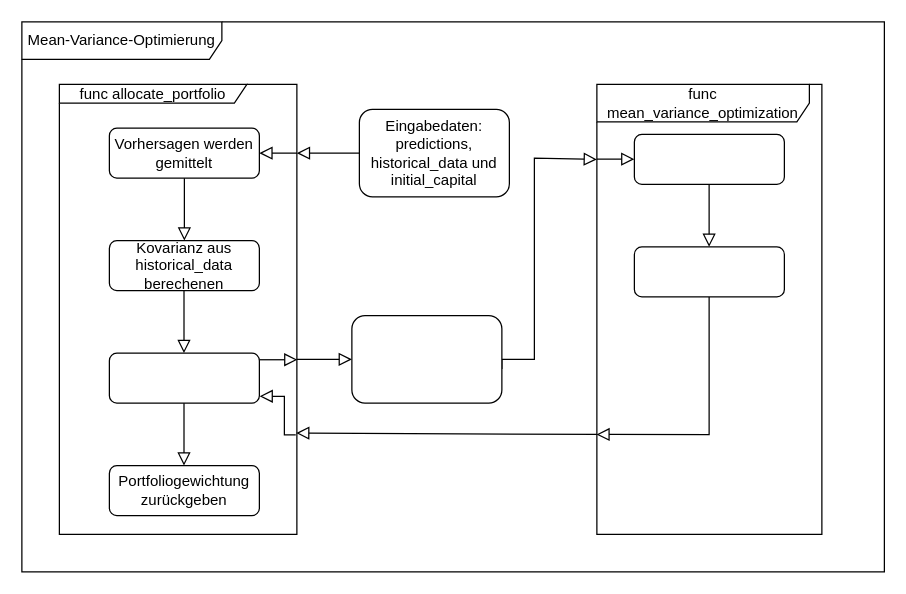
The diagram is 906 pixels wide and 594 high, and some of its shapes have lost their labels. The centre of each missing label's shape, as x and y in pixels:
"Array erstellen und Grenzen von 0 bis 1 festlegen" belongs at point (708, 158).
"Eingabedaten: expected_returns, covariance_matrix" belongs at point (426, 358).
"Minimieren der negativen Sharpe-Ratio" belongs at point (708, 271).
"Optimale Gewichtung der Aktien bestimmen" belongs at point (183, 377).
